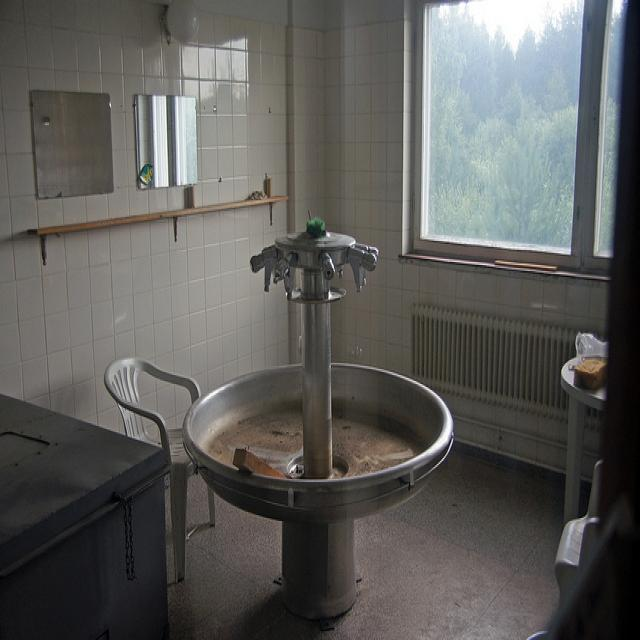chair: (102, 355, 218, 580), (554, 459, 604, 609)
dining table: (560, 333, 609, 530)
